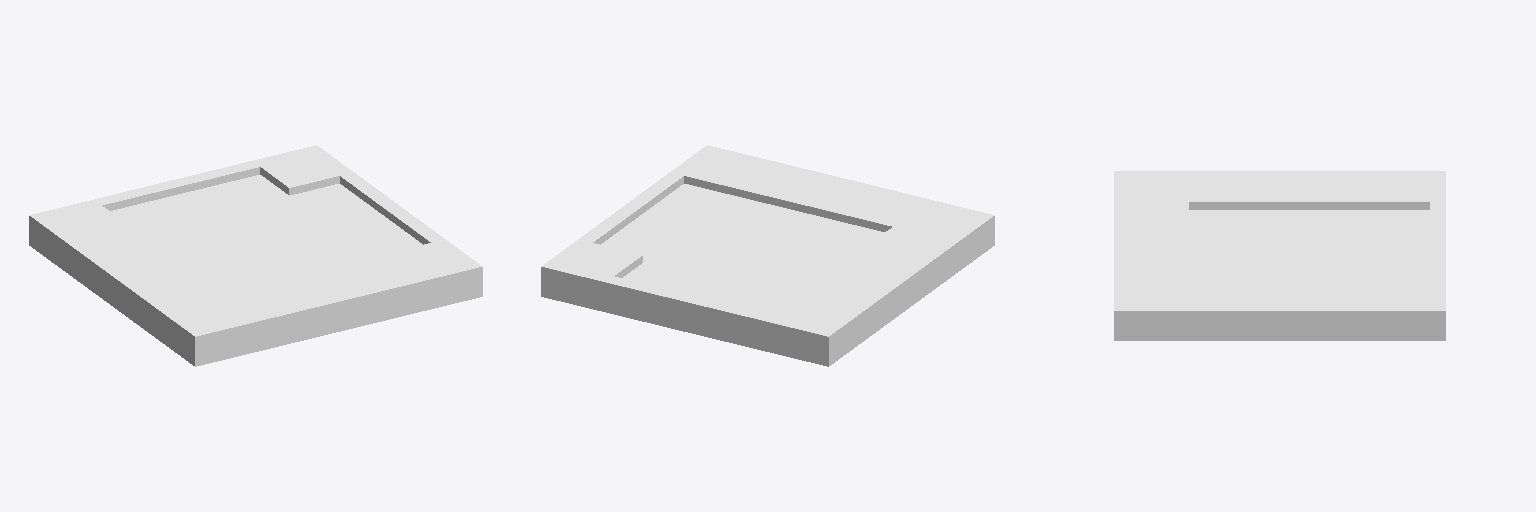
The model's file is CWP2.vox.obj.
The picture shows the model from 3 angles: view 1: azimuth 30°, elevation 25°; view 2: azimuth 150°, elevation 25°; view 3: azimuth 270°, elevation 25°; orthographic projection.
Parts seen in each view (by area): view 1: object 1; view 2: object 1; view 3: object 1.
Part boxes in pixels (left/top/right/bottom): object 1: left=29, top=145, right=482, bottom=366; object 1: left=541, top=145, right=994, bottom=366; object 1: left=1114, top=171, right=1445, bottom=340.
Bounding box in the file's own units: 4 × 0.4 × 4.